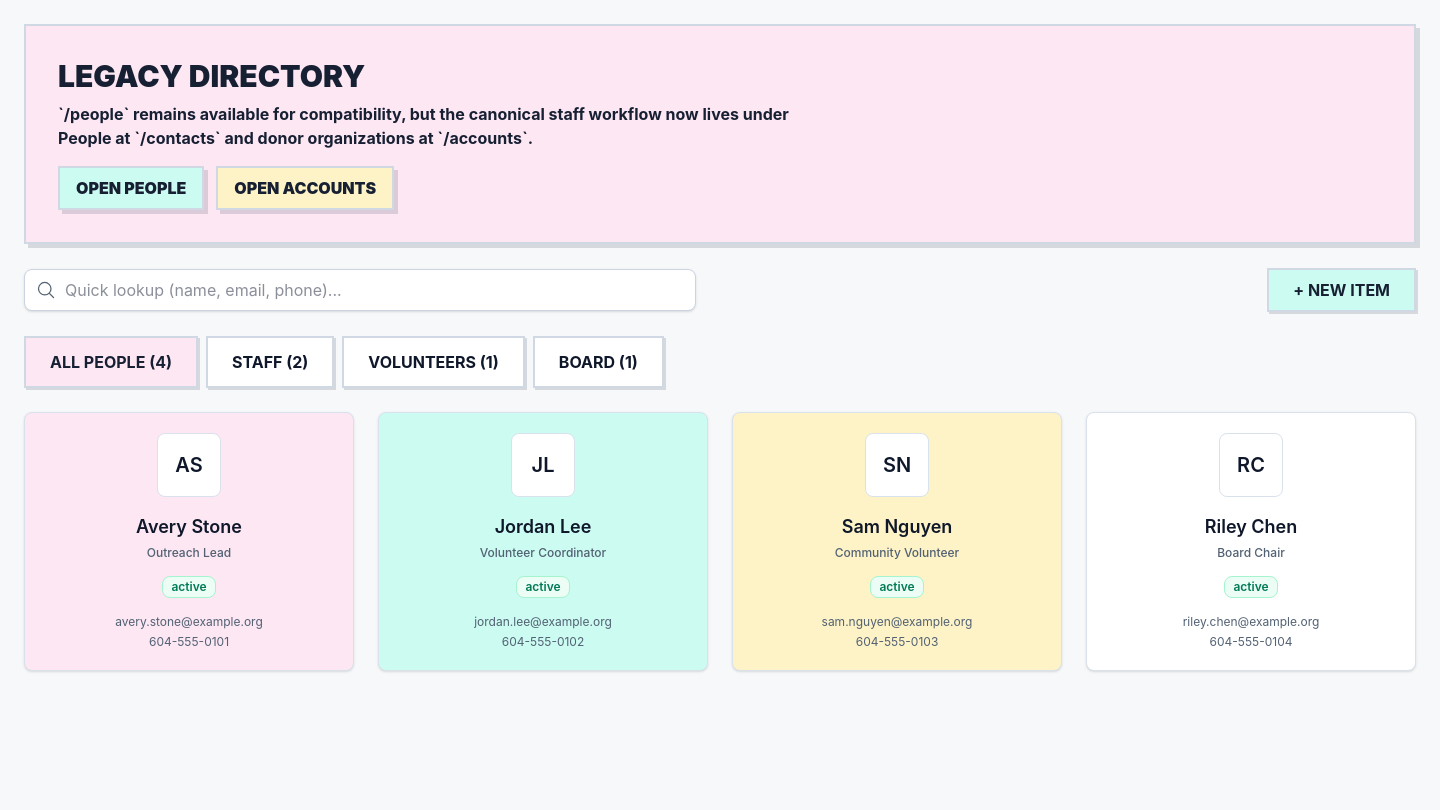
Test: PeopleDirectoryPage › adds visible focus hooks to the people CTA and filter tabs
The image size is (1440, 810).
Step 1. Click the button "VOLUNTEERS (1)" → (434, 362), box left=342, top=336, right=525, bottom=388
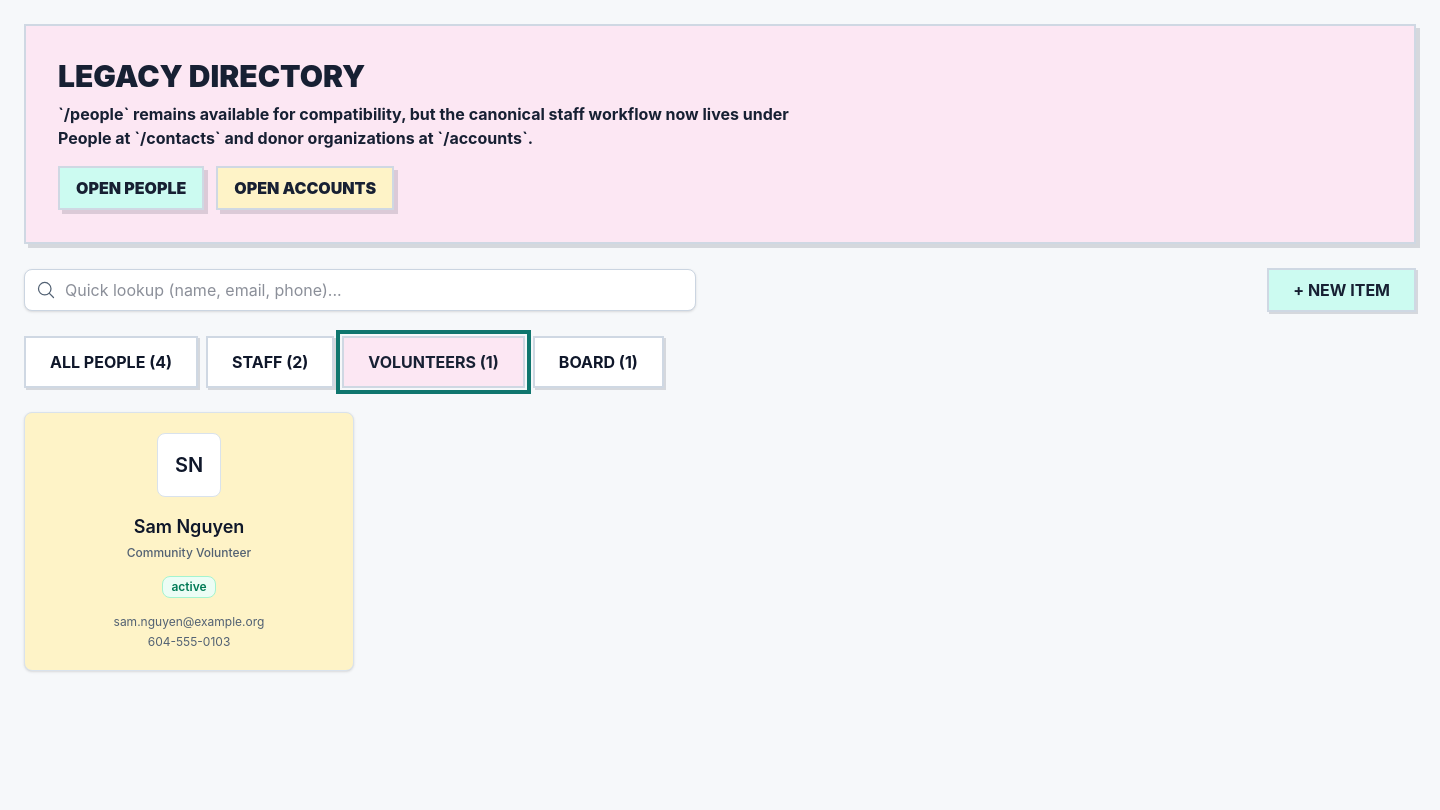
Expected: the heading "Sam Nguyen" is shown, left=134, top=516, right=244, bottom=537
Result: the heading "Avery Stone" is gone
